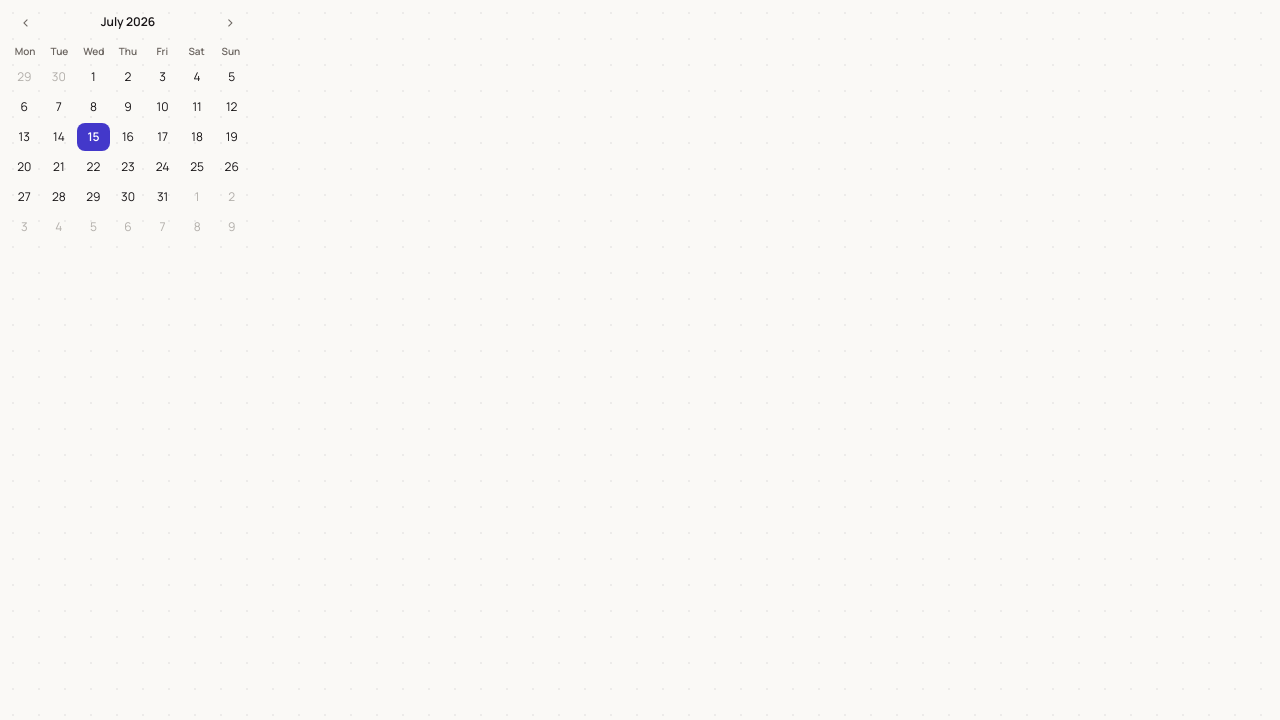
Scenario: CalendarPanel › navigates to the next/previous month without calling onSelect
The width and height of the screenshot is (1280, 720).
Click the button named "Next month" at (230, 22), box [216, 8, 244, 36]
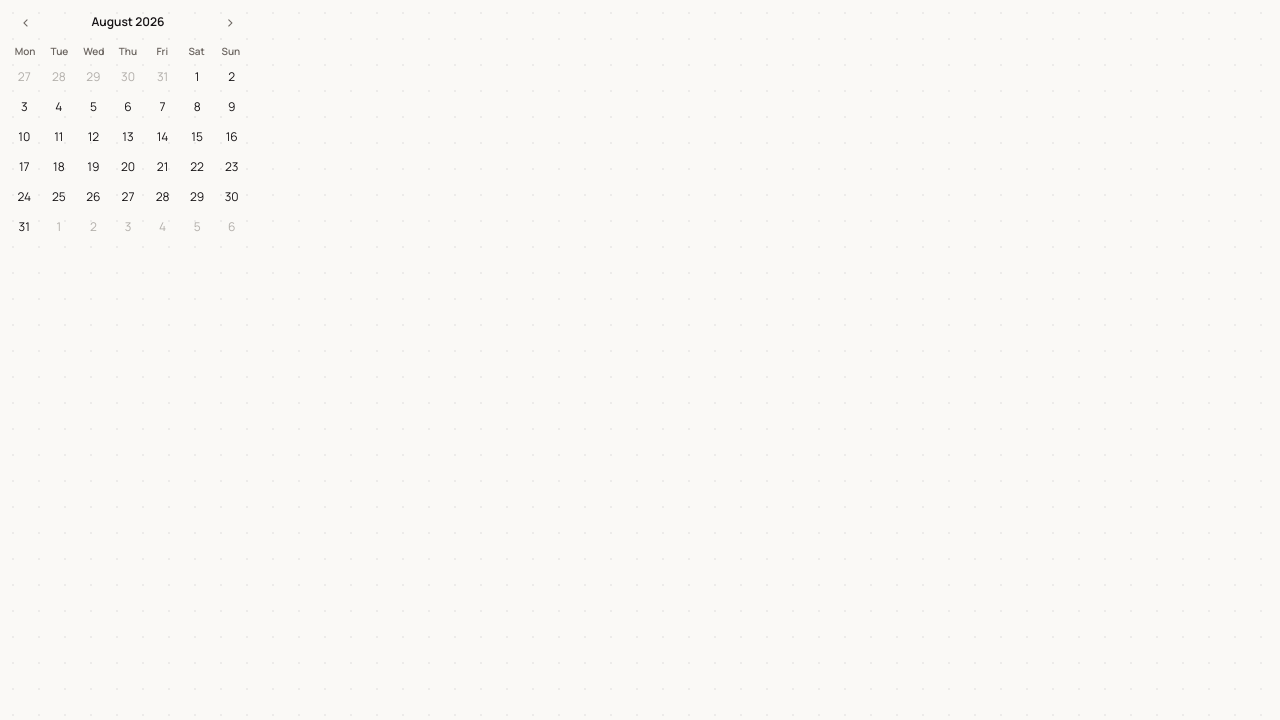
Result: the text "August 2026" is shown at [91, 14, 164, 30]
Click the button named "Previous month" at (26, 22), box [12, 8, 40, 36]
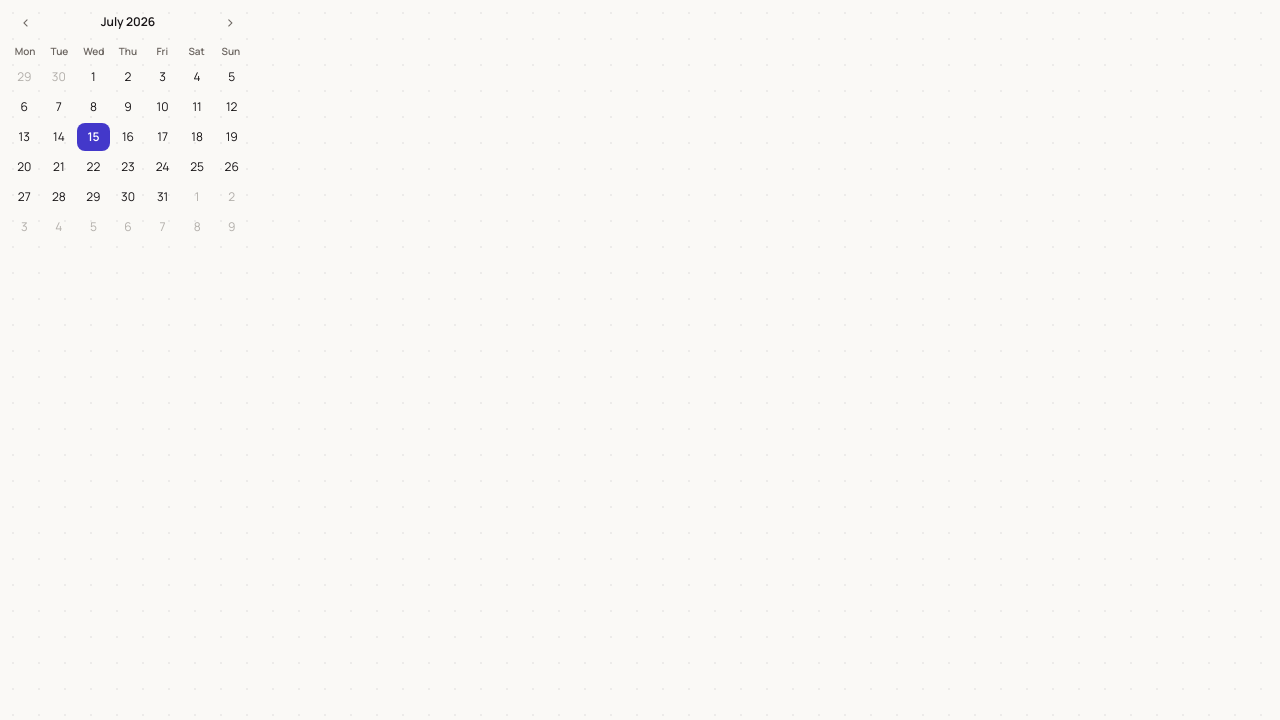
Click the button named "Previous month" at (26, 22), box [12, 8, 40, 36]
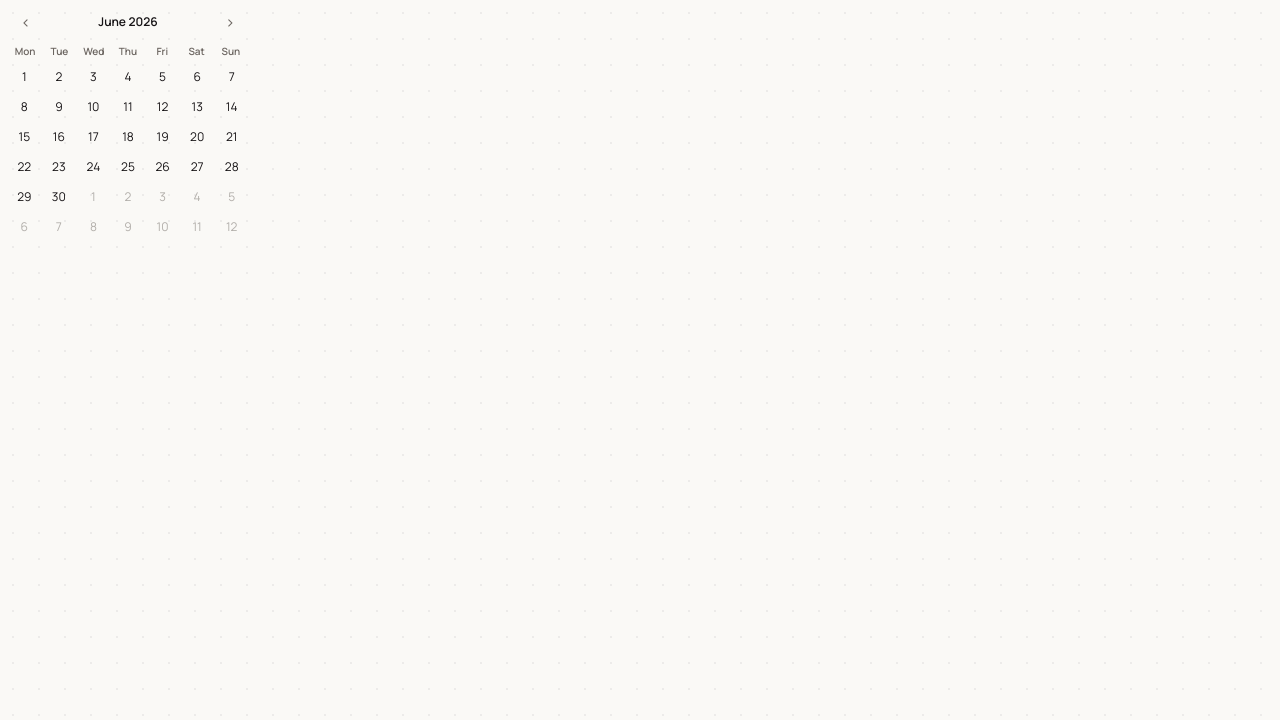
Result: the text "June 2026" is shown at [98, 14, 158, 30]
